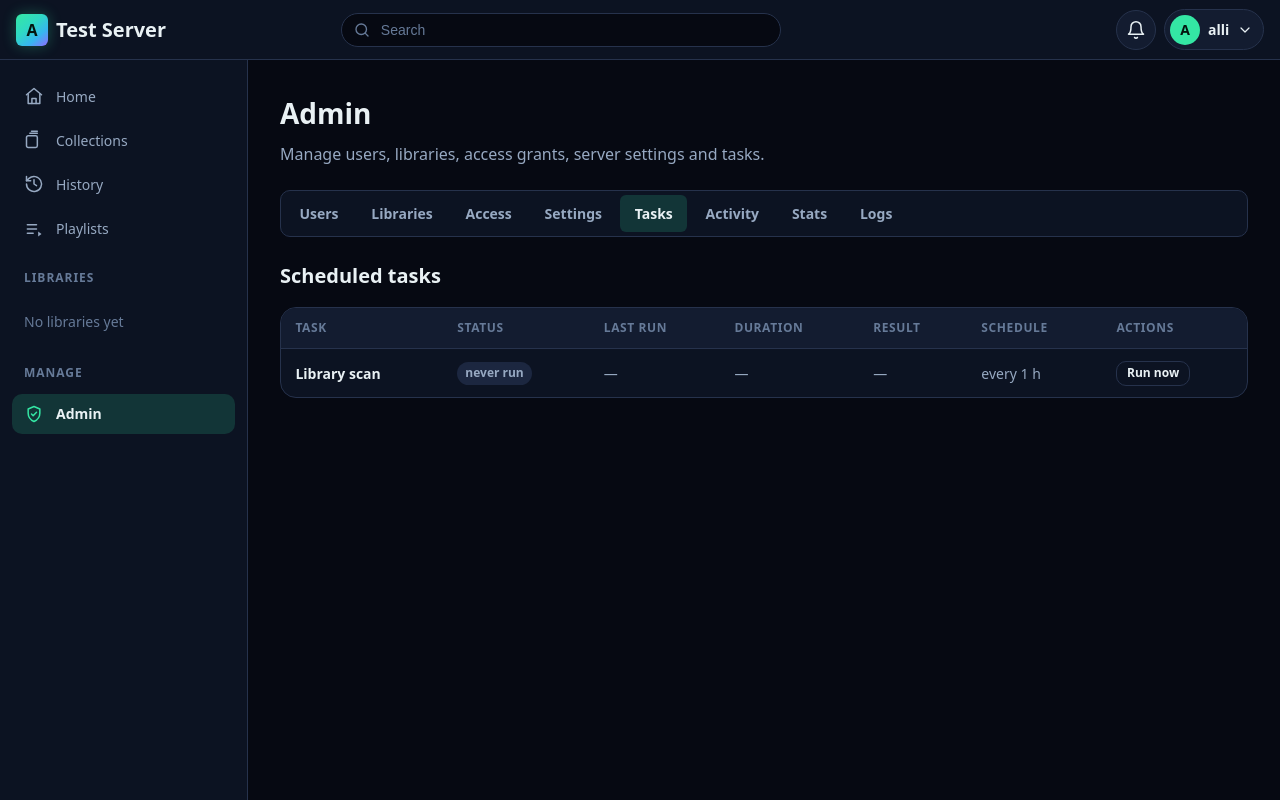
Test case: AdminTasksPage › surfaces a 409 already-running conflict
This screenshot has width=1280, height=800.
Check: the text "Library scan" is shown, box [281,349,443,397]
What coordinates should you click on to do the following:
click the button "Run now"
I would click on:
 (1153, 373)
Its box is [1116,361,1190,386].
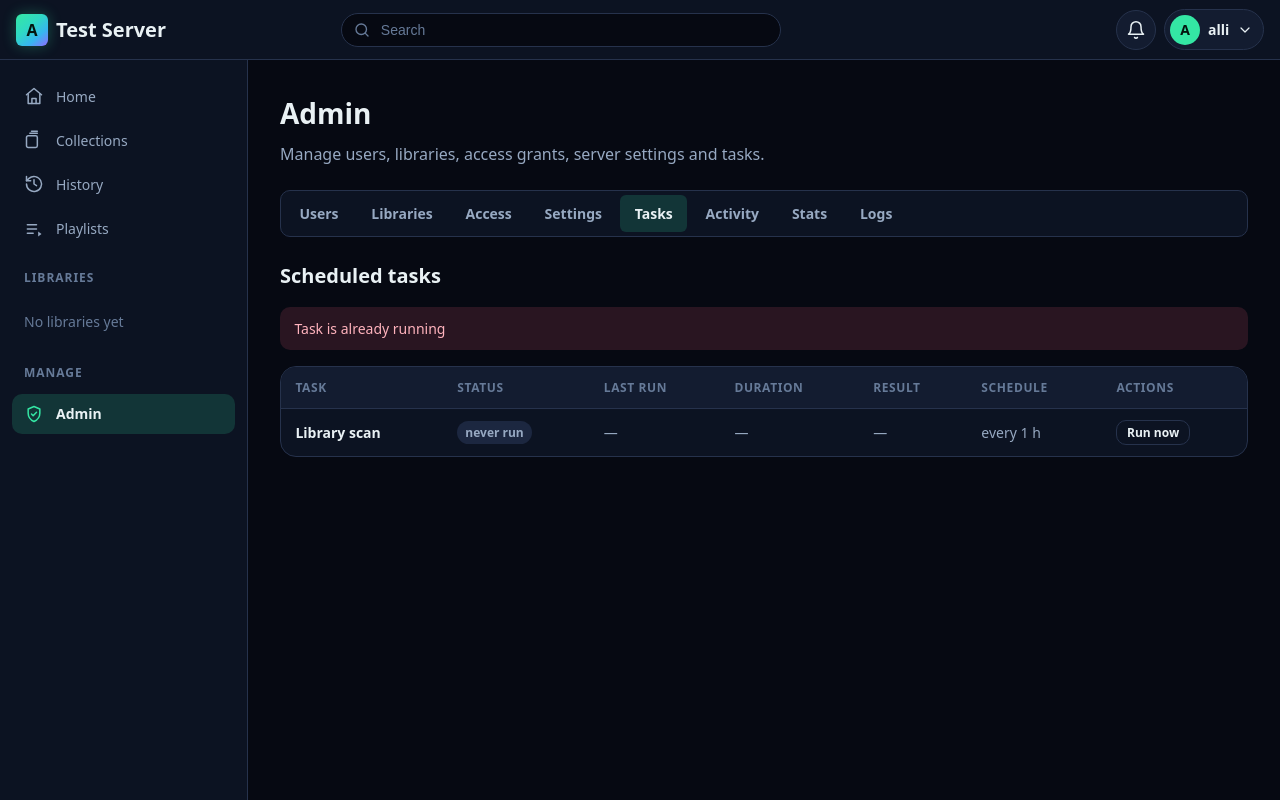
Check: the message shows "already running", box [294,319,445,338]
